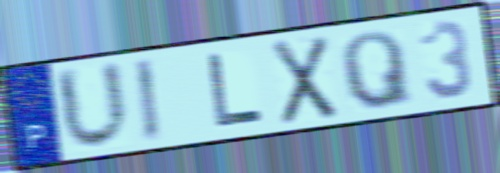3: (416, 18, 474, 104)
I: (130, 56, 164, 146)
L: (205, 50, 267, 131)
Q: (338, 28, 417, 112)
U: (52, 58, 134, 153)
X: (269, 32, 340, 128)
